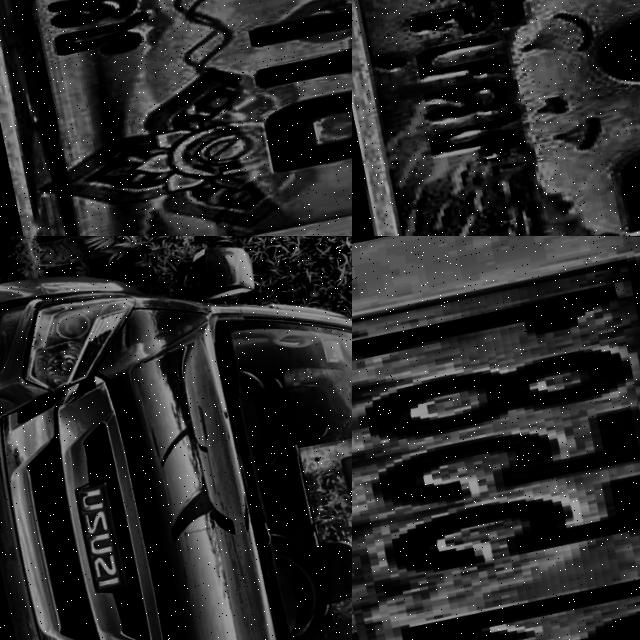license-plate: (352, 236, 640, 640), (0, 0, 352, 236), (352, 0, 640, 236)
